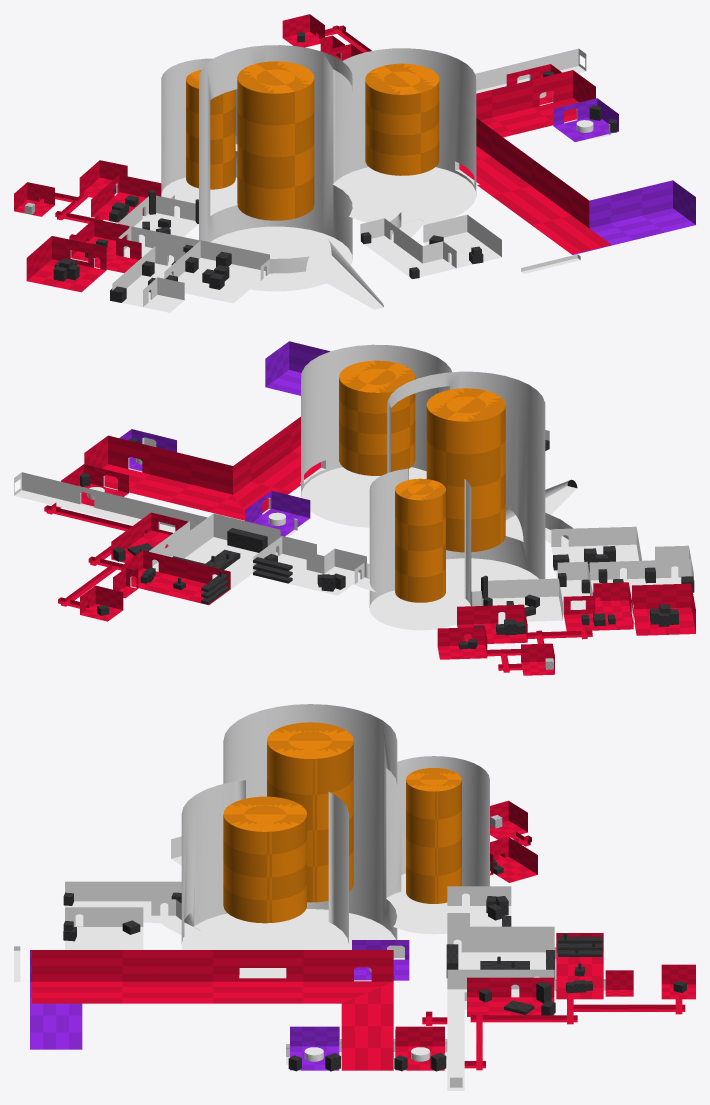
The picture shows the model from 3 angles, top to bottom: view 1: azimuth 30°, elevation 25°; view 2: azimuth 150°, elevation 25°; view 3: azimuth 270°, elevation 25°; orthographic projection. The views are drawn at different scales.
Visible parts, largest first — view 1: CSGBakedMeshInstance3D, CSGBakedMeshInstance3D2; view 2: CSGBakedMeshInstance3D, CSGBakedMeshInstance3D2; view 3: CSGBakedMeshInstance3D, CSGBakedMeshInstance3D2.
Boxes of the visible parts, left/top/right/bottom form: CSGBakedMeshInstance3D: left=14, top=14, right=695, bottom=312; CSGBakedMeshInstance3D2: left=24, top=32, right=617, bottom=302; CSGBakedMeshInstance3D: left=14, top=341, right=695, bottom=675; CSGBakedMeshInstance3D2: left=70, top=360, right=694, bottom=669; CSGBakedMeshInstance3D: left=14, top=704, right=695, bottom=1090; CSGBakedMeshInstance3D2: left=63, top=722, right=686, bottom=1071.
Size of the model in its own units: 182 by 53.45 by 157.
16 materials, 14 textured.
